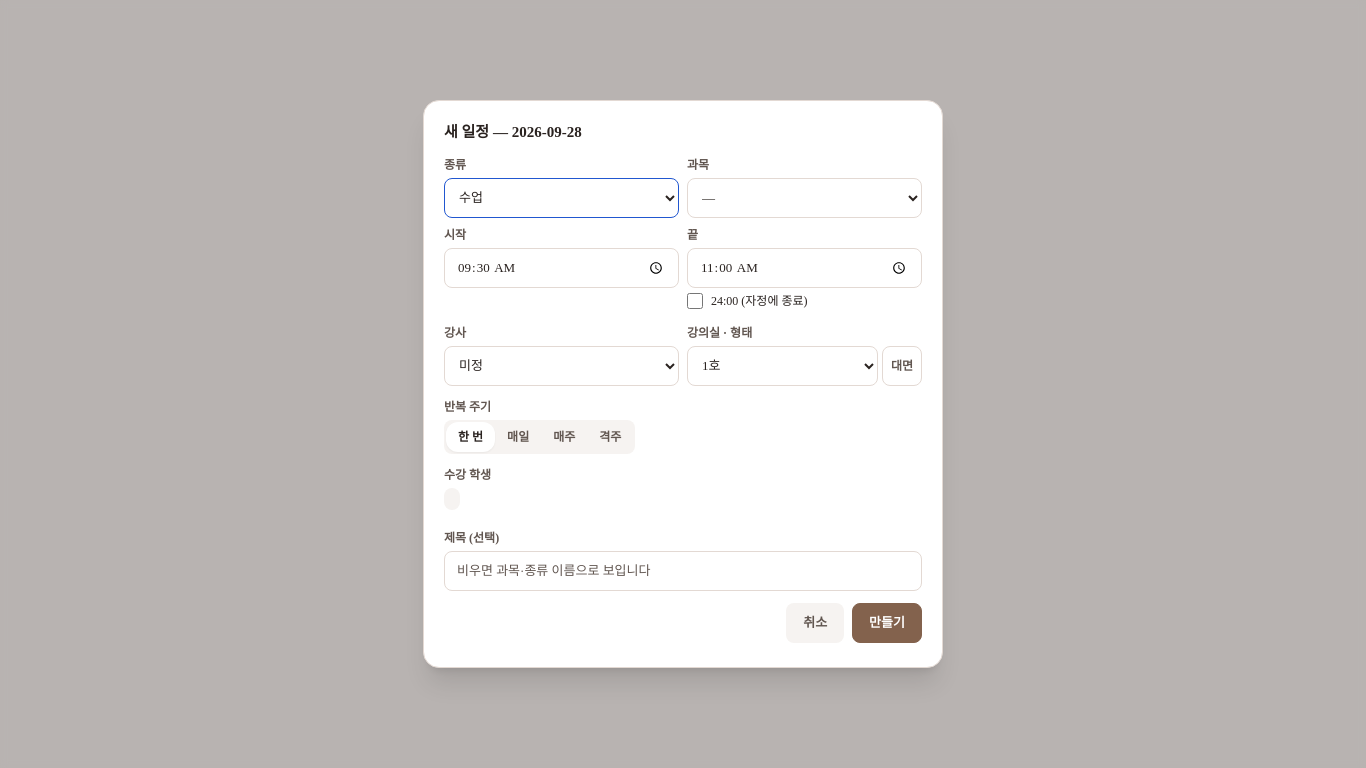
Test: 겹쳐서 막히면 원래 문구 뒤에 누구와·어느 수업인지 붙는다 (B-17·B-18)
Click the button "만들기" at (887, 623), box [852, 603, 922, 643]
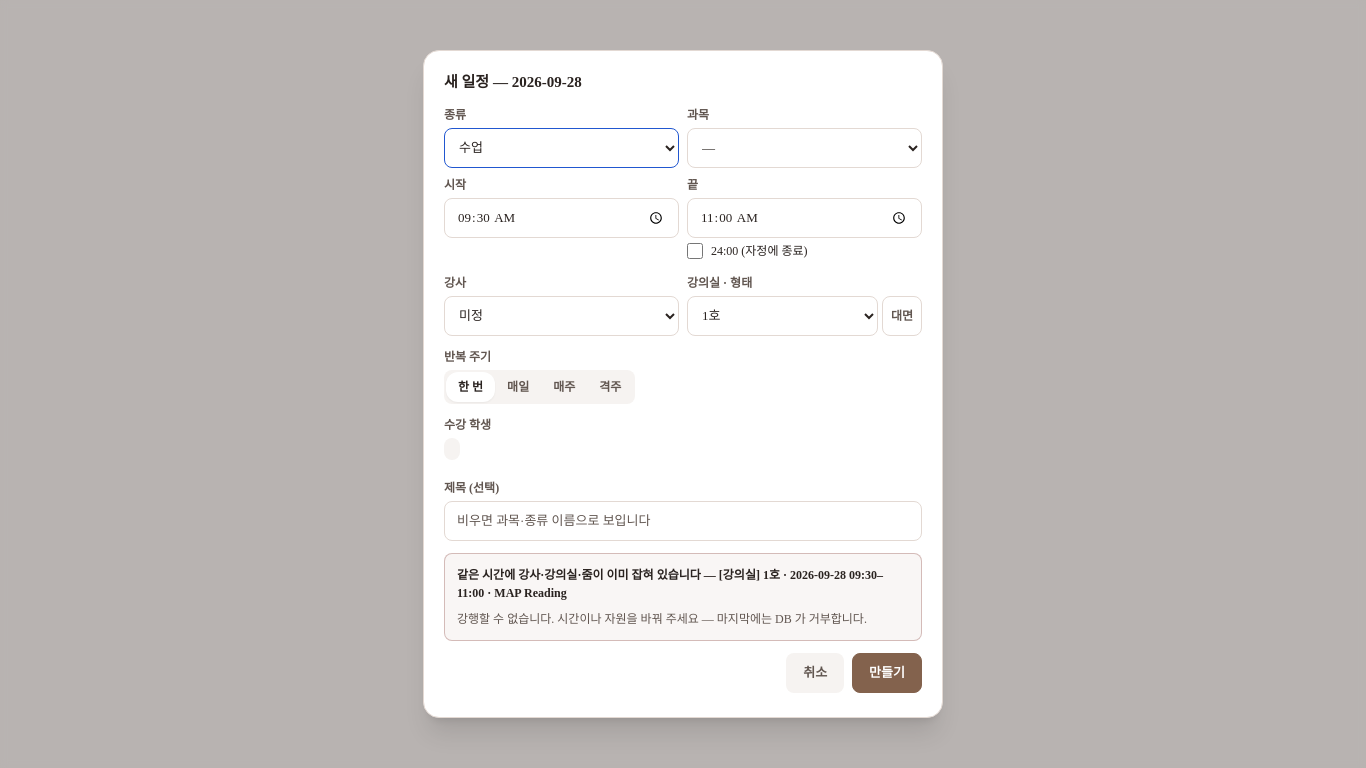
Check: the text "[강의실] 1호 · 2026-09-28 09:30–11:00 · MAP Reading" is shown, box [457, 568, 883, 600]
